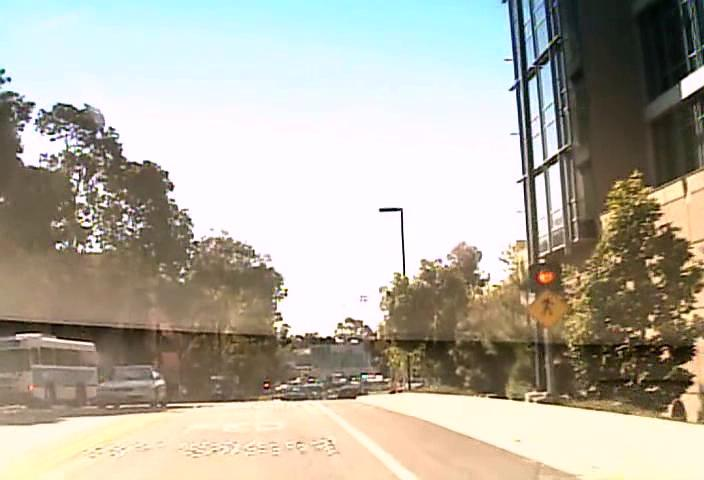pedestrianCrossing: (526, 287, 569, 329)
